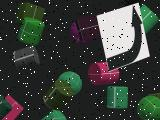Left: (96, 2, 150, 72)
